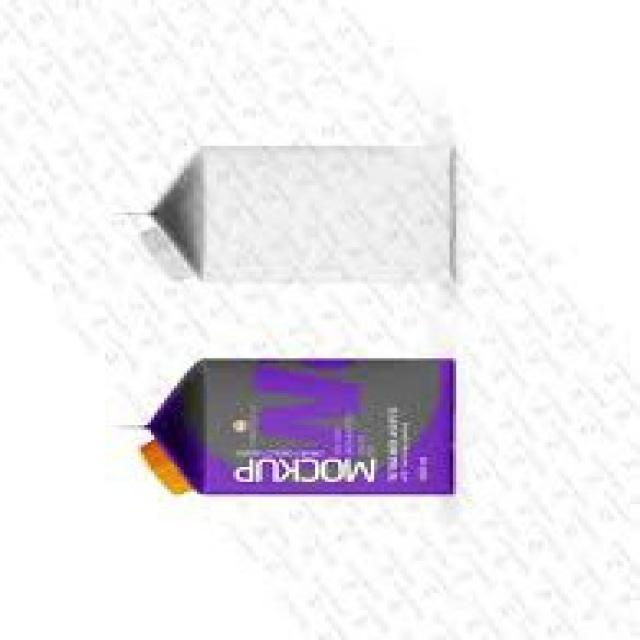non_white_jug: (112, 354, 464, 504), (121, 144, 463, 286)
